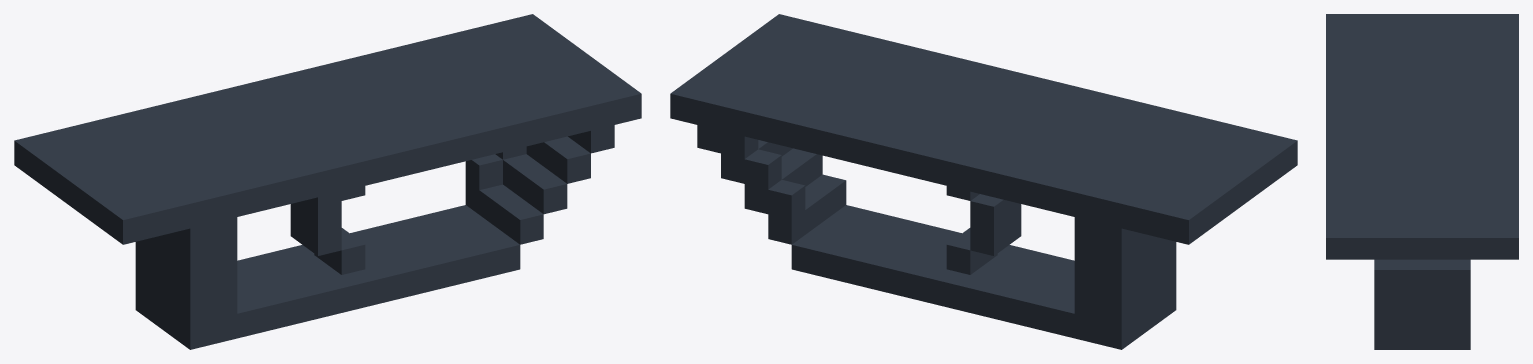
Rendered from lower_pump.glb.
3 renders of one model, left to right at view 1: azimuth 30°, elevation 25°; view 2: azimuth 150°, elevation 25°; view 3: azimuth 270°, elevation 25°, orthographic. The views are drawn at different scales.
Parts seen in each view (by area): view 1: lower_pump:lower; view 2: lower_pump:lower; view 3: lower_pump:lower.
Boxes of the visible parts, x1,y1,x2,y2 form: lower_pump:lower: (14, 14, 641, 349); lower_pump:lower: (670, 14, 1297, 349); lower_pump:lower: (1326, 14, 1518, 349).
Size of the model in its own units: 0.092 by 0.028 by 0.032.
